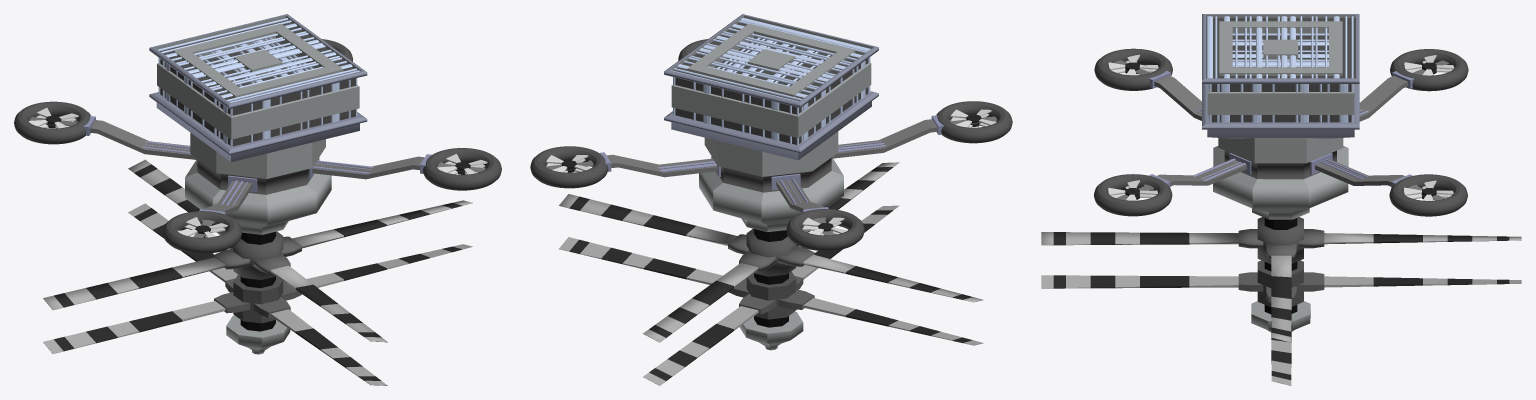
3 views of the same model, side by side, from view 1: azimuth 30°, elevation 25°; view 2: azimuth 150°, elevation 25°; view 3: azimuth 270°, elevation 25° (orthographic).
Parts seen in each view (by area): view 1: Cube, Cube.001, Cylinder.008, Cylinder.009, Cylinder.010, Cylinder.005, Cylinder.001; view 2: Cube, Cube.001, Cylinder.008, Cylinder.009, Cylinder.010, Cylinder.005, Cylinder.003; view 3: Cube, Cube.001, Cylinder.008, Cylinder.009, Cylinder.003, Cylinder.001, Cylinder.010, Cylinder.005.
Boxes of the visible parts, x1,y1,x2,y2 form: Cube: (149,14,367,354); Cube.001: (14,39,501,253); Cylinder.008: (43,159,472,342); Cylinder.009: (43,203,472,385); Cylinder.010: (28,108,78,128); Cylinder.005: (178,217,227,237); Cylinder.001: (437,154,487,174); Cube: (664,14,878,350); Cube.001: (530,39,1012,250); Cylinder.008: (559,162,983,342); Cylinder.009: (559,205,983,385); Cylinder.010: (802,217,847,235); Cylinder.005: (951,109,996,127); Cylinder.003: (546,155,591,172); Cube: (1202,14,1359,332); Cube.001: (1094,48,1468,216); Cylinder.008: (1041,217,1521,342); Cylinder.009: (1041,260,1521,385); Cylinder.003: (1404,180,1453,200); Cylinder.001: (1108,180,1157,200); Cylinder.010: (1404,55,1454,75); Cylinder.005: (1108,54,1158,75).
Size of the model in its own units: 6089 by 4051 by 6089.
